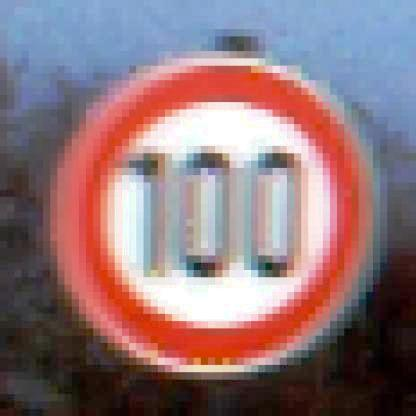Speed Limit -100-: (46, 51, 380, 376)
